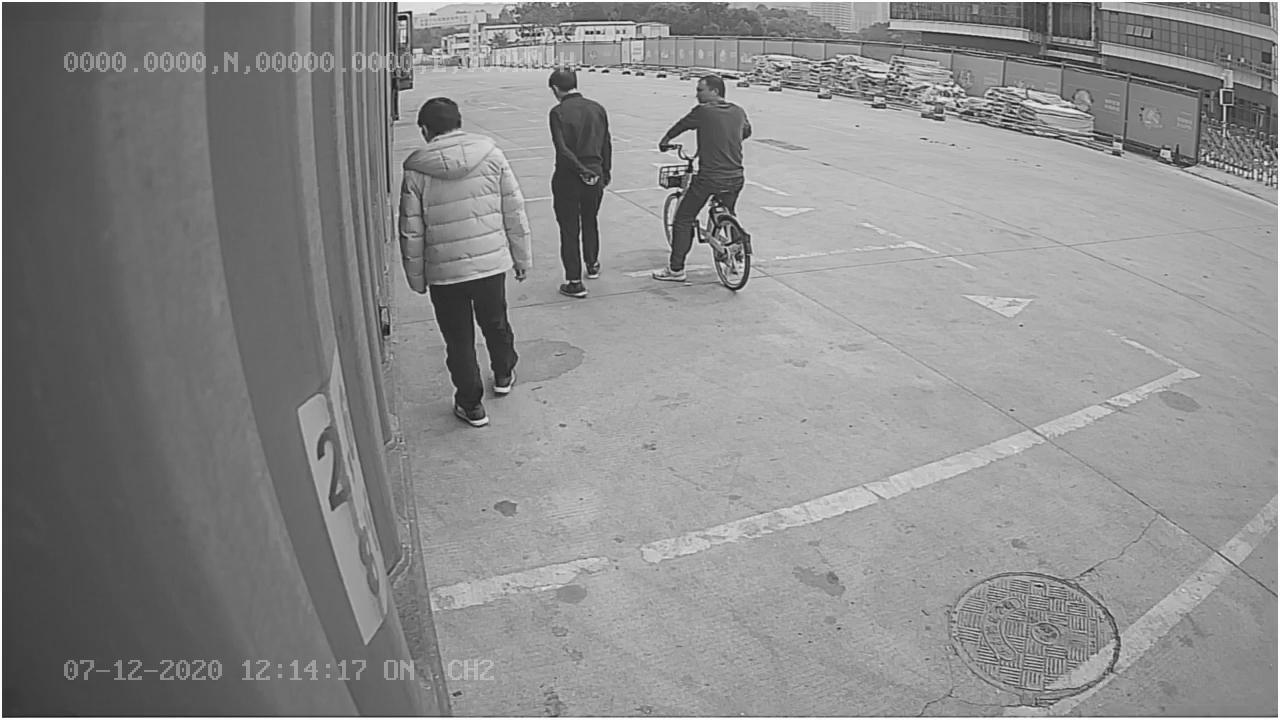person: (536, 68, 621, 299)
